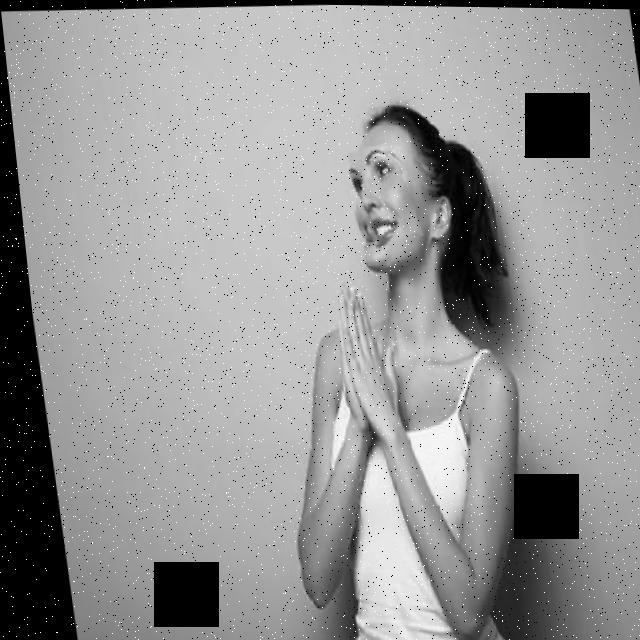happy: (337, 143, 415, 247)
